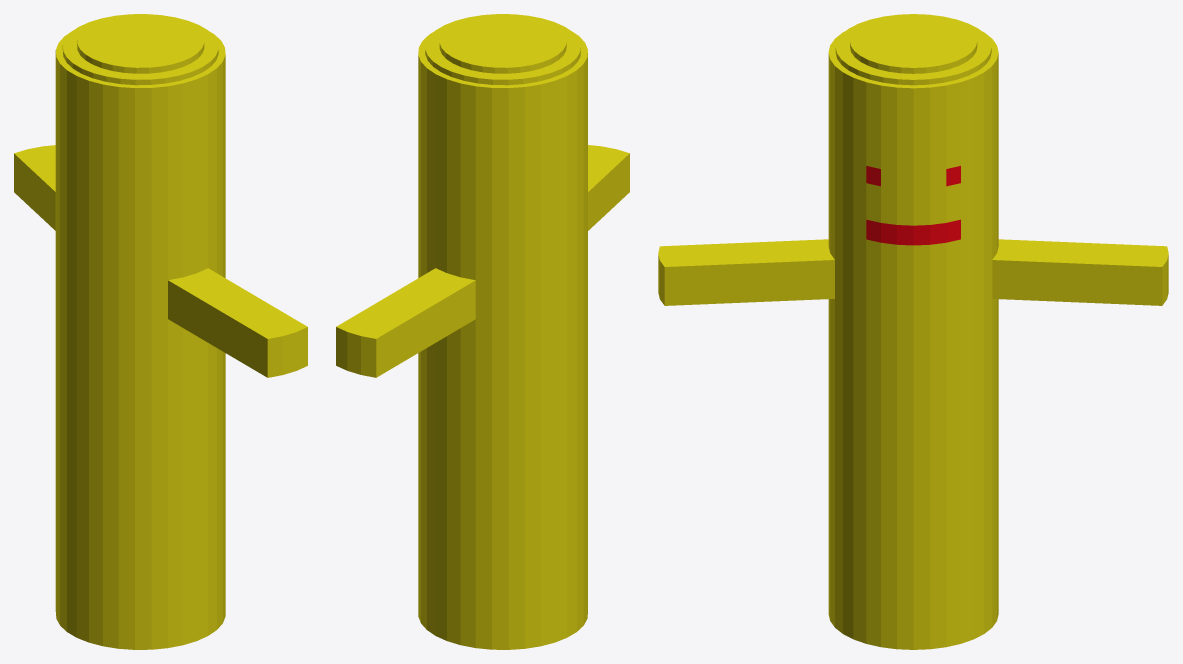
Rendered from TempModel1.glb.
The picture shows the model from 3 angles, left to right: view 1: azimuth 30°, elevation 25°; view 2: azimuth 150°, elevation 25°; view 3: azimuth 270°, elevation 25°; orthographic projection.
Visible parts, largest first — view 1: Cylinder; view 2: Cylinder; view 3: Cylinder.
Part boxes in pixels (left/top/right/bottom): Cylinder: left=14, top=14, right=307, bottom=649; Cylinder: left=336, top=14, right=629, bottom=649; Cylinder: left=658, top=14, right=1168, bottom=649.
Bounding box in the file's own units: 2 × 7.43 × 6.
